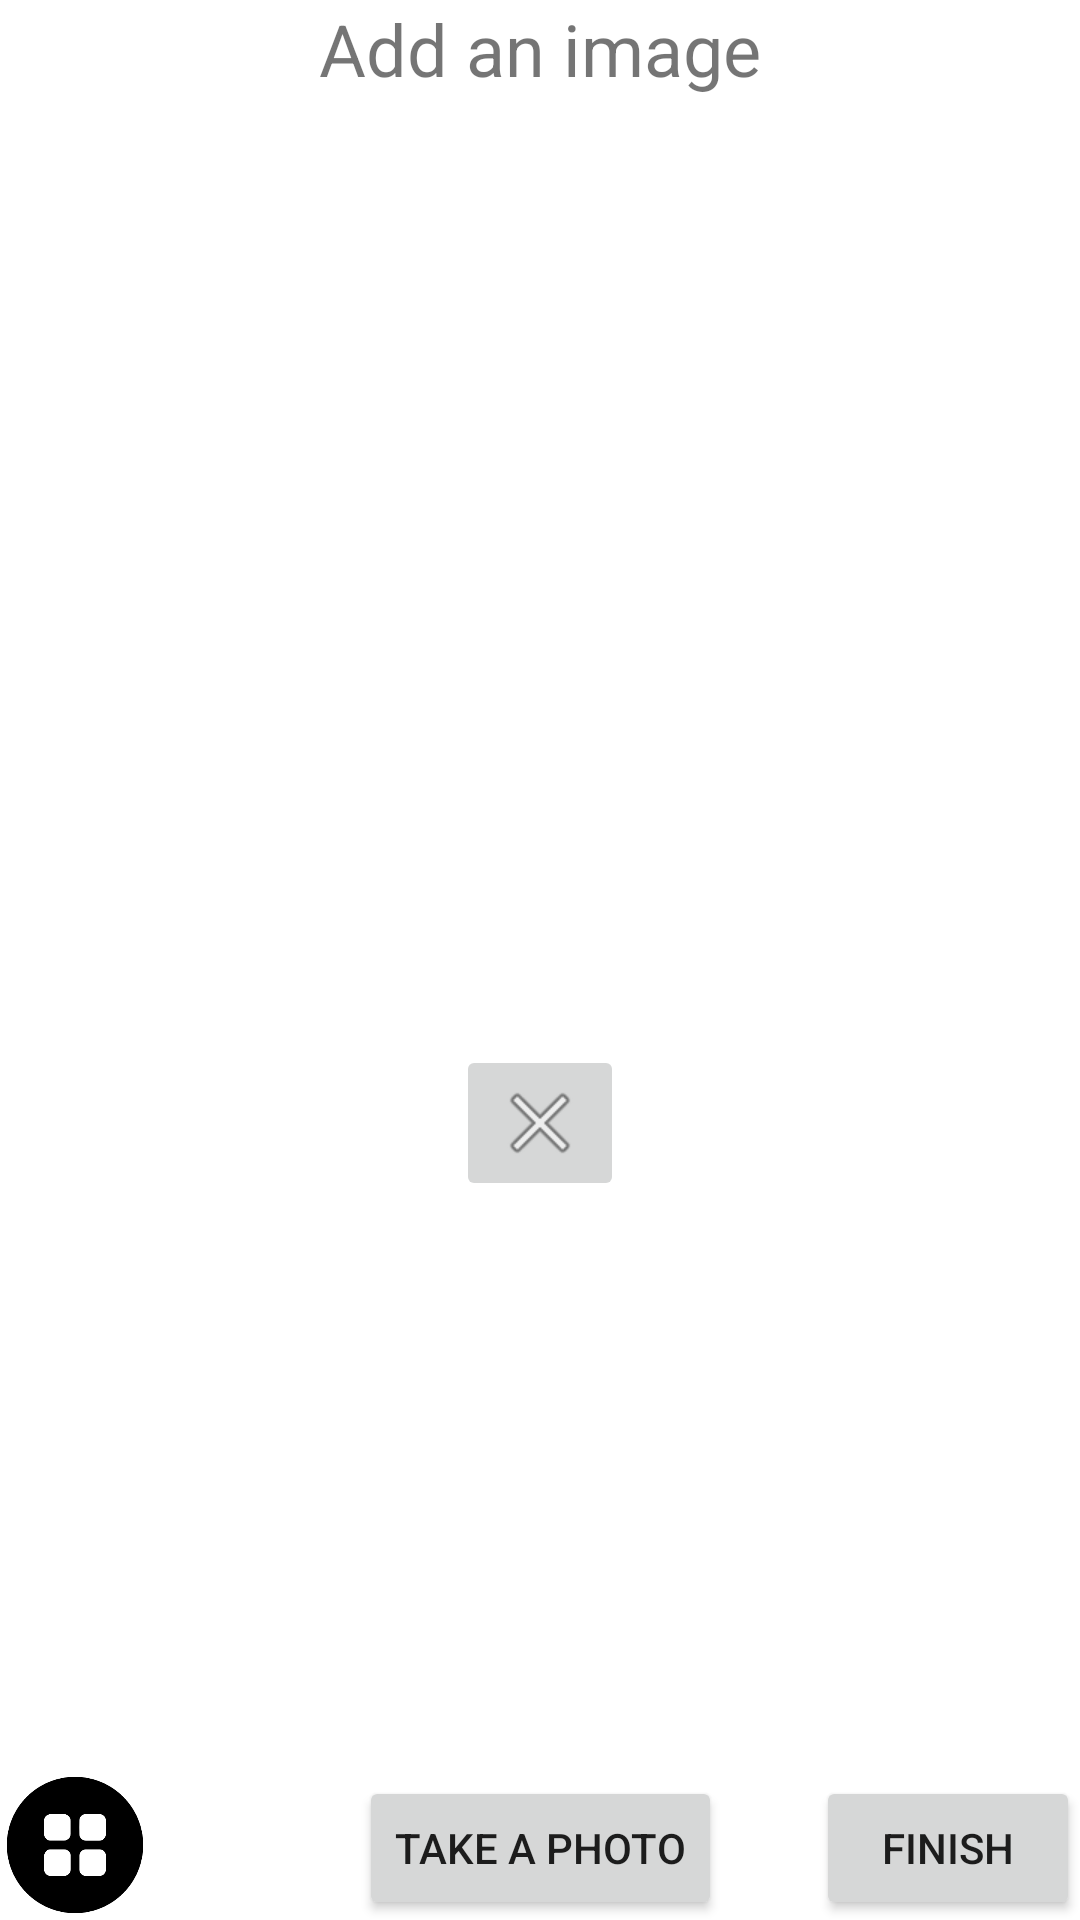

Screen size 1080w x 1920h. Icon name, then its center in pixels as point (x, y):
grid: point (75, 1845)
Remove the image: point (540, 1123)
